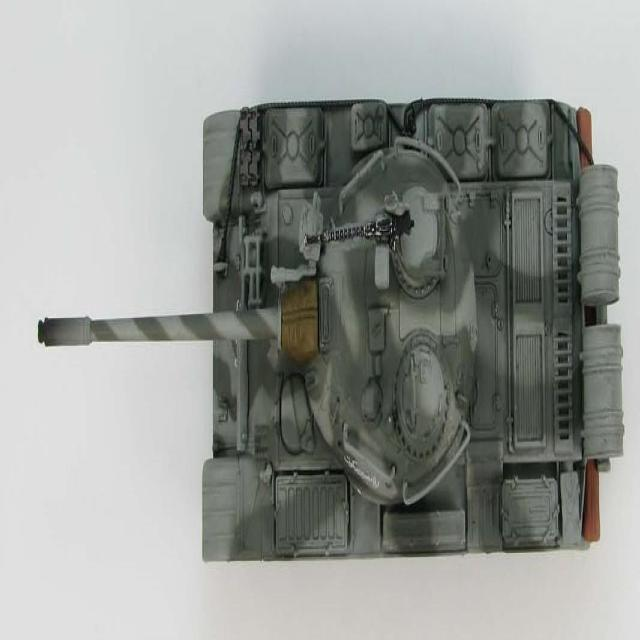Tanks: (38, 114, 568, 570)
